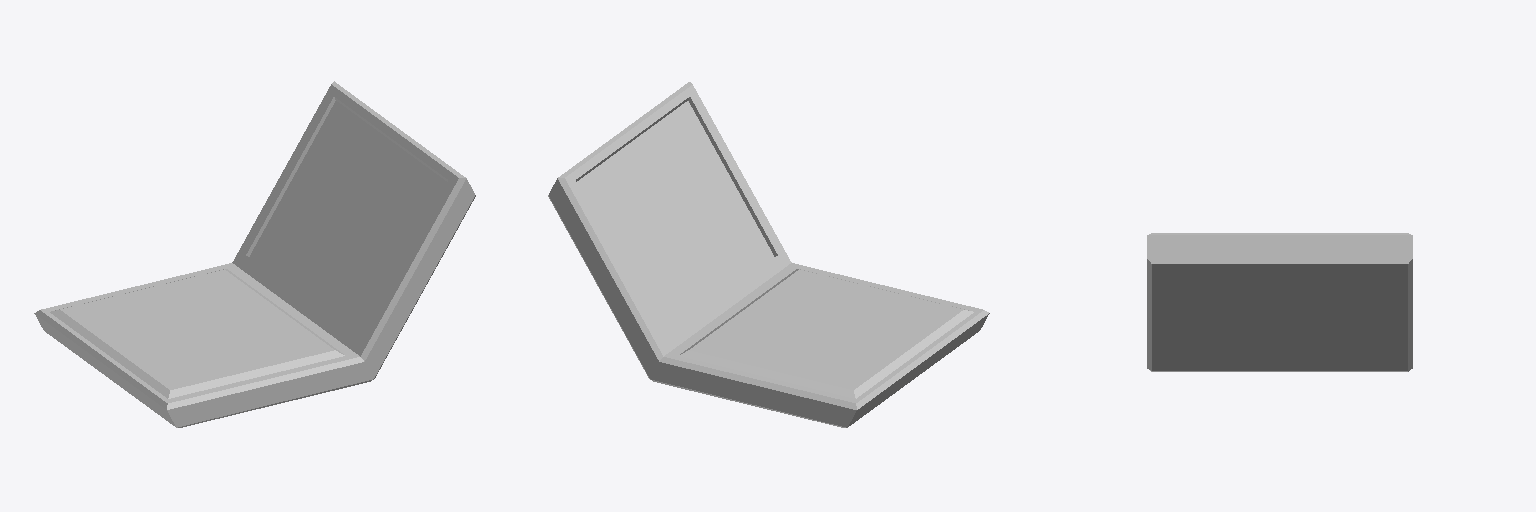
3 views of the same model, side by side, from view 1: azimuth 30°, elevation 25°; view 2: azimuth 150°, elevation 25°; view 3: azimuth 270°, elevation 25° (orthographic).
Parts seen in each view (by area): view 1: pc timeMachine Hub; view 2: pc timeMachine Hub; view 3: pc timeMachine Hub.
Boxes of the visible parts, x1,y1,x2,y2 form: pc timeMachine Hub: [34, 81, 475, 427]; pc timeMachine Hub: [548, 82, 989, 427]; pc timeMachine Hub: [1147, 233, 1412, 371].
Bounding box in the file's own units: 4.98 × 2.79 × 3.68.